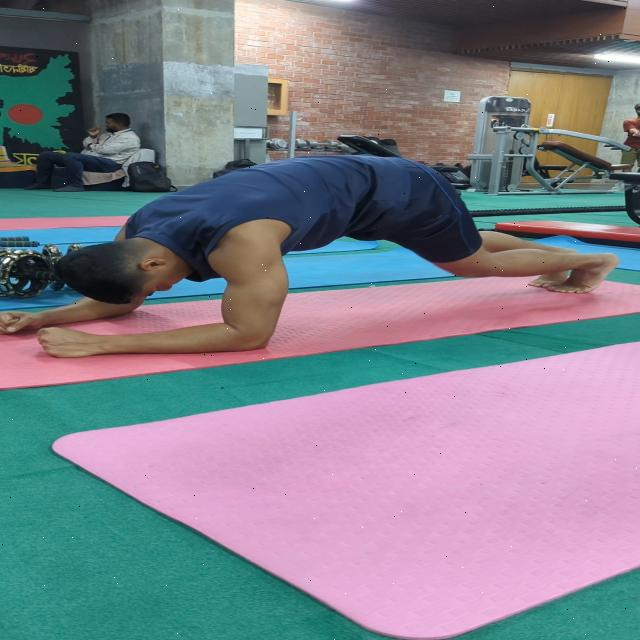Normal_MountainClimbers: (0, 139, 634, 388)
